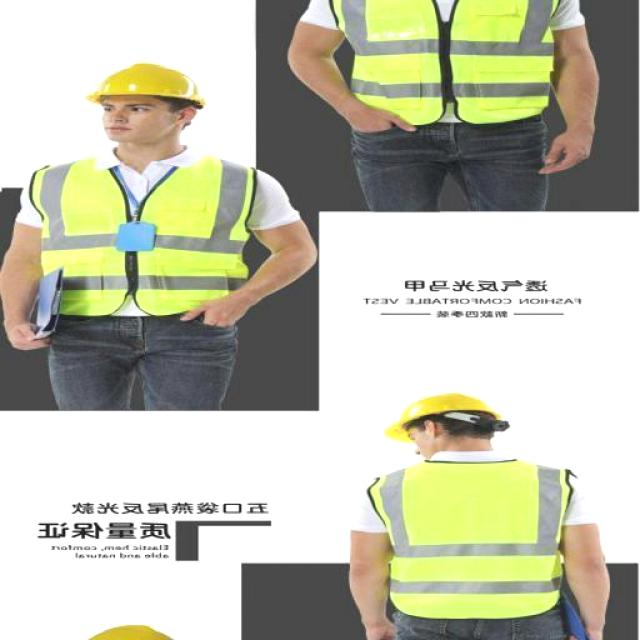face_nomask: (90, 94, 162, 144)
hand_noglove: (536, 119, 596, 179), (174, 291, 247, 334), (3, 312, 59, 357)
head_helmet: (383, 394, 526, 460), (80, 62, 216, 102)
person: (0, 61, 320, 407), (344, 385, 622, 640)
vest: (35, 150, 257, 316), (370, 458, 582, 622), (347, 0, 568, 128)
